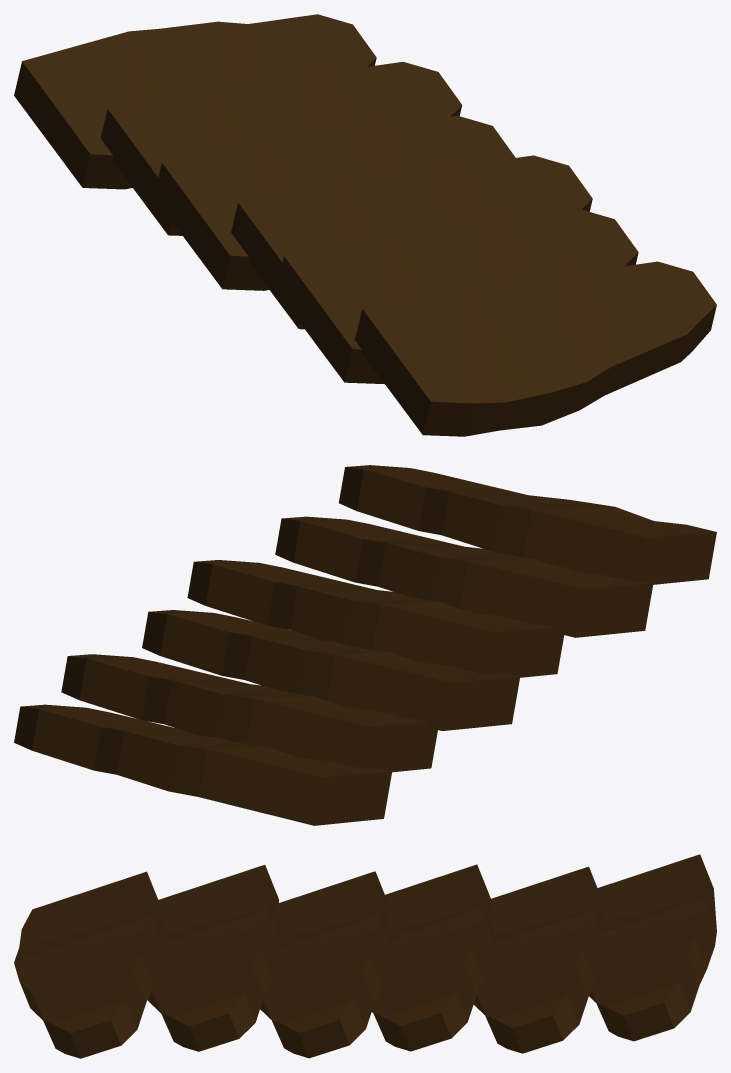
The model's file is cuttedChickenFilletManyBadDone.fbx.
The picture shows the model from 3 angles, top to bottom: view 1: azimuth 30°, elevation 25°; view 2: azimuth 150°, elevation 25°; view 3: azimuth 270°, elevation 25°; orthographic projection. The views are drawn at different scales.
Visible parts, largest first — view 1: Cylinder, Cylinder.001, Cylinder.005, Cylinder.004, Cylinder.003, Cylinder.002; view 2: Cylinder, Cylinder.005, Cylinder.001, Cylinder.003, Cylinder.002, Cylinder.004; view 3: Cylinder, Cylinder.001, Cylinder.004, Cylinder.002, Cylinder.005, Cylinder.003.
Part boxes in pixels (x1=…): Cylinder: x1=355, y1=261, x2=716, y2=436; Cylinder.001: x1=276, y1=209, x2=638, y2=384; Cylinder.005: x1=14, y1=14, x2=376, y2=189; Cylinder.004: x1=100, y1=61, x2=462, y2=235; Cylinder.003: x1=154, y1=115, x2=515, y2=290; Cylinder.002: x1=231, y1=155, x2=592, y2=329; Cylinder: x1=339, y1=465, x2=716, y2=584; Cylinder.005: x1=14, y1=704, x2=391, y2=825; Cylinder.001: x1=275, y1=516, x2=653, y2=637; Cylinder.003: x1=142, y1=610, x2=520, y2=730; Cylinder.002: x1=187, y1=560, x2=564, y2=677; Cylinder.004: x1=61, y1=654, x2=437, y2=772; Cylinder: x1=14, y1=871, x2=163, y2=1058; Cylinder.001: x1=148, y1=865, x2=281, y2=1051; Cylinder.004: x1=473, y1=866, x2=604, y2=1053; Cylinder.002: x1=260, y1=871, x2=391, y2=1058; Cylinder.005: x1=589, y1=854, x2=716, y2=1041; Cylinder.003: x1=372, y1=864, x2=493, y2=1051.
Size of the model in its own units: 361 by 110 by 772.
